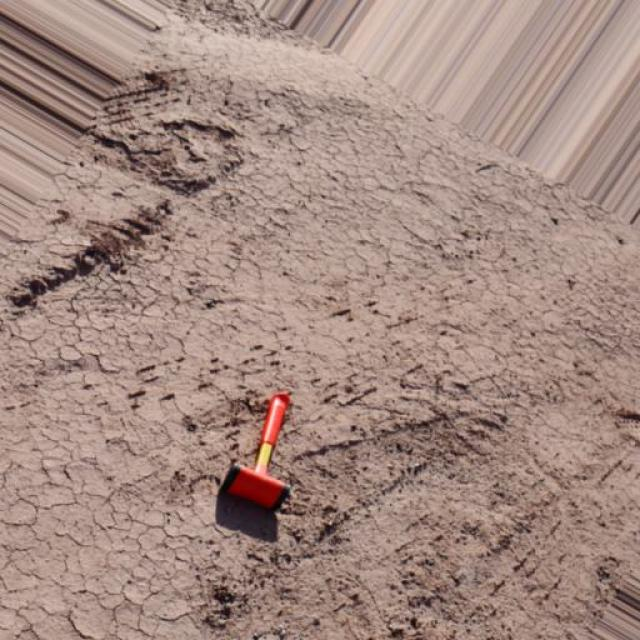mallet: (218, 389, 294, 511)
